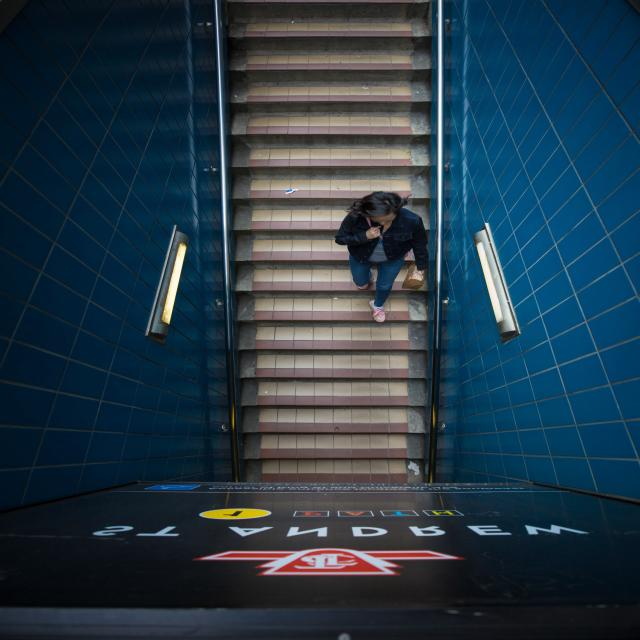adult: (336, 191, 429, 321)
